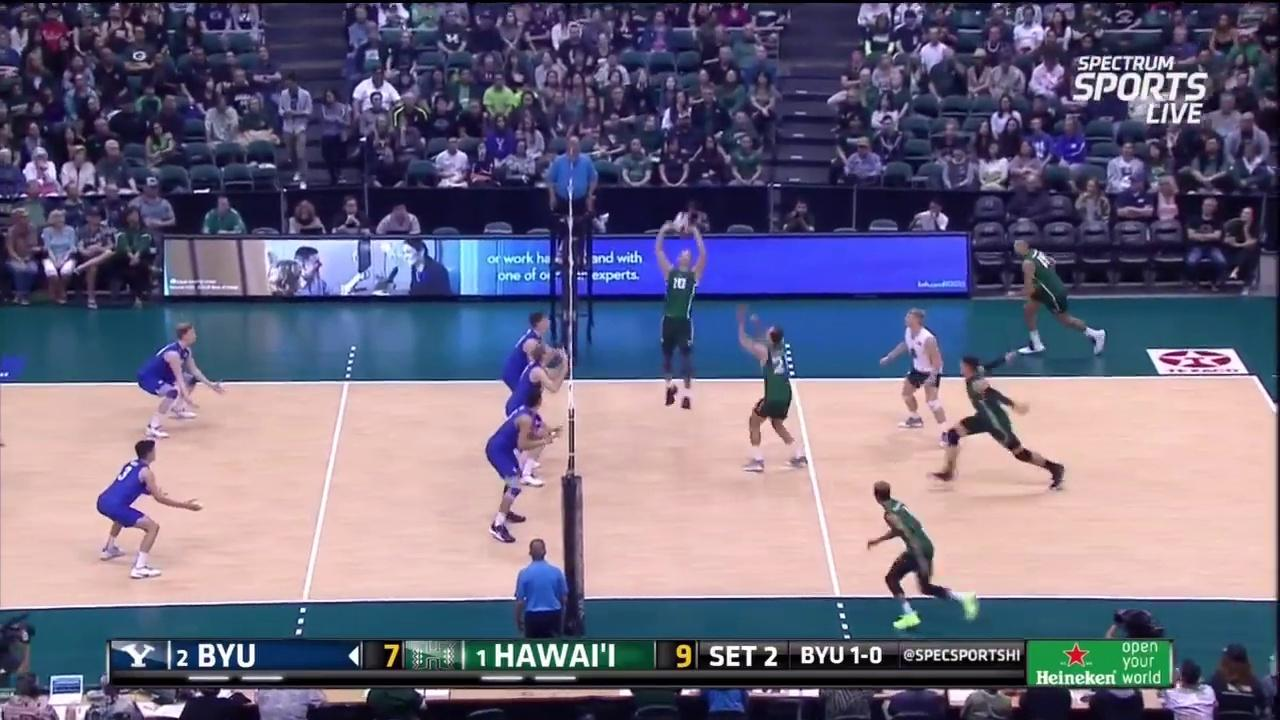player: (865, 479, 979, 632), (927, 357, 1062, 486), (95, 439, 204, 580), (1014, 238, 1106, 360), (481, 386, 551, 541), (743, 323, 813, 468), (656, 211, 706, 409), (136, 327, 222, 436), (501, 346, 565, 486), (499, 311, 561, 447), (881, 310, 947, 426)
refree: (549, 131, 599, 256), (511, 536, 571, 635)
